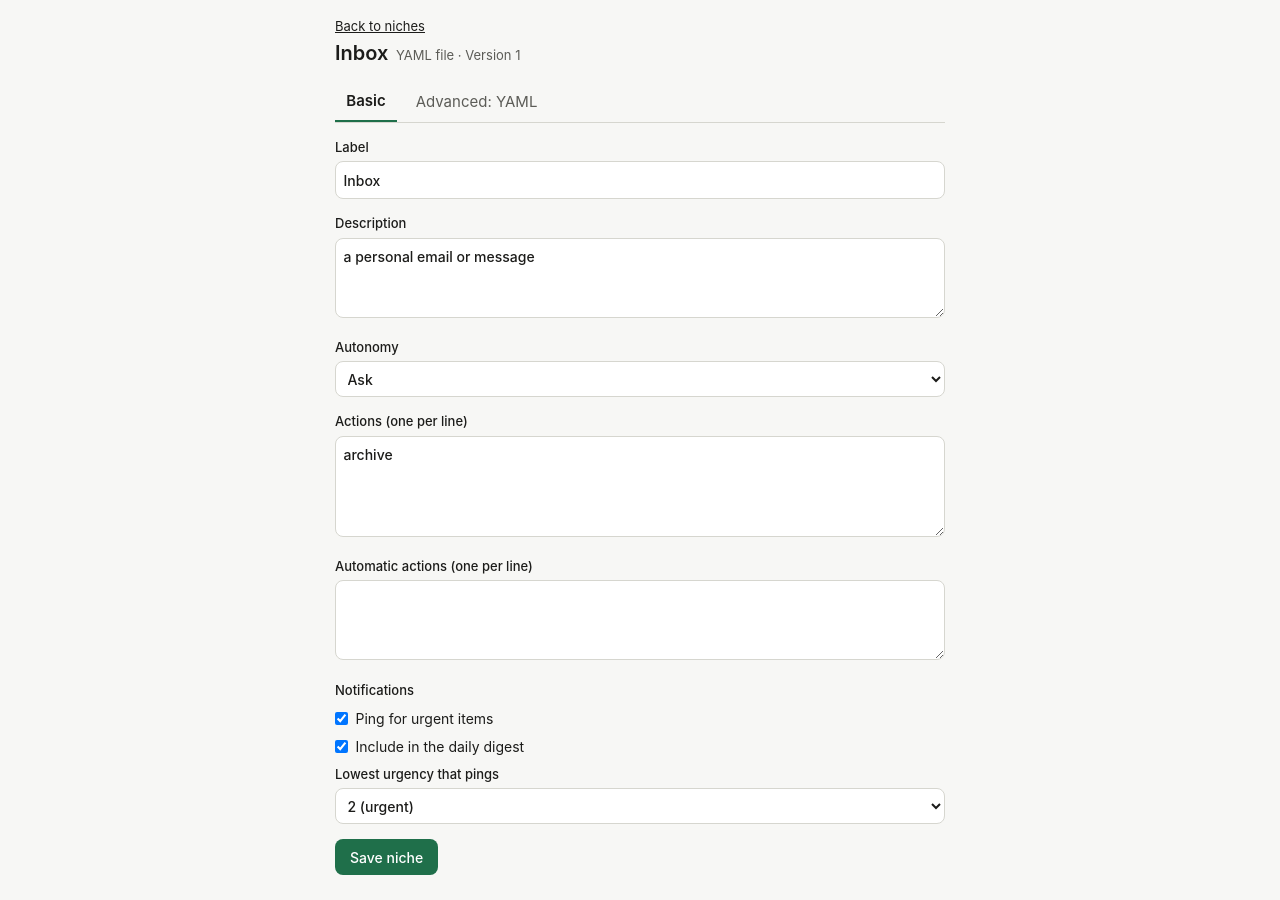
Test case: NicheEditor › does not save when the auto confirmation is cancelled
The image size is (1280, 900).
Check: the field labelled "Label" is shown, box [335, 161, 945, 199]
Select "Auto" in the dropdown labelled "Autonomy". click: (640, 379)
box: [335, 361, 945, 397]
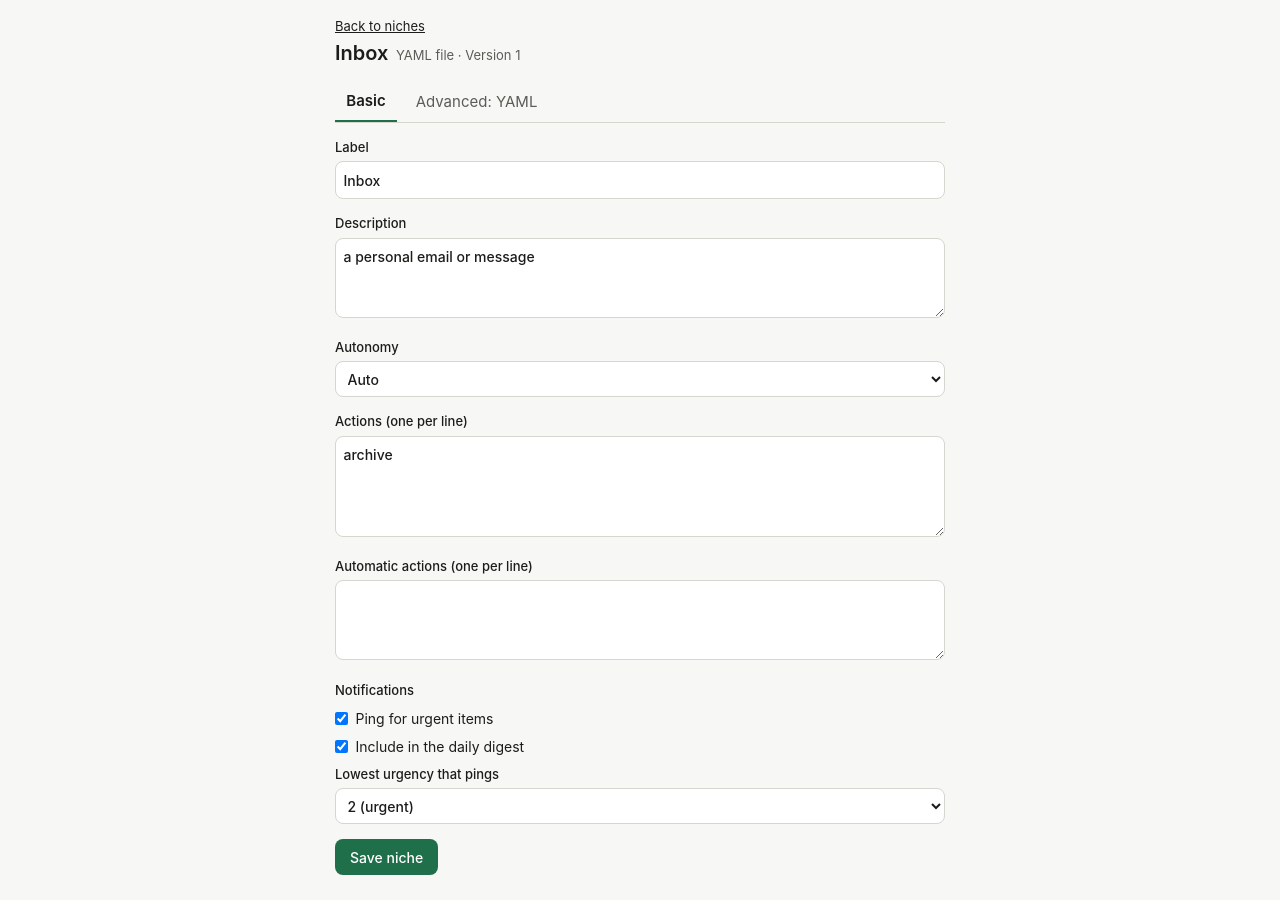
Click the button "Save niche". click: (387, 857)
box: [335, 839, 438, 875]
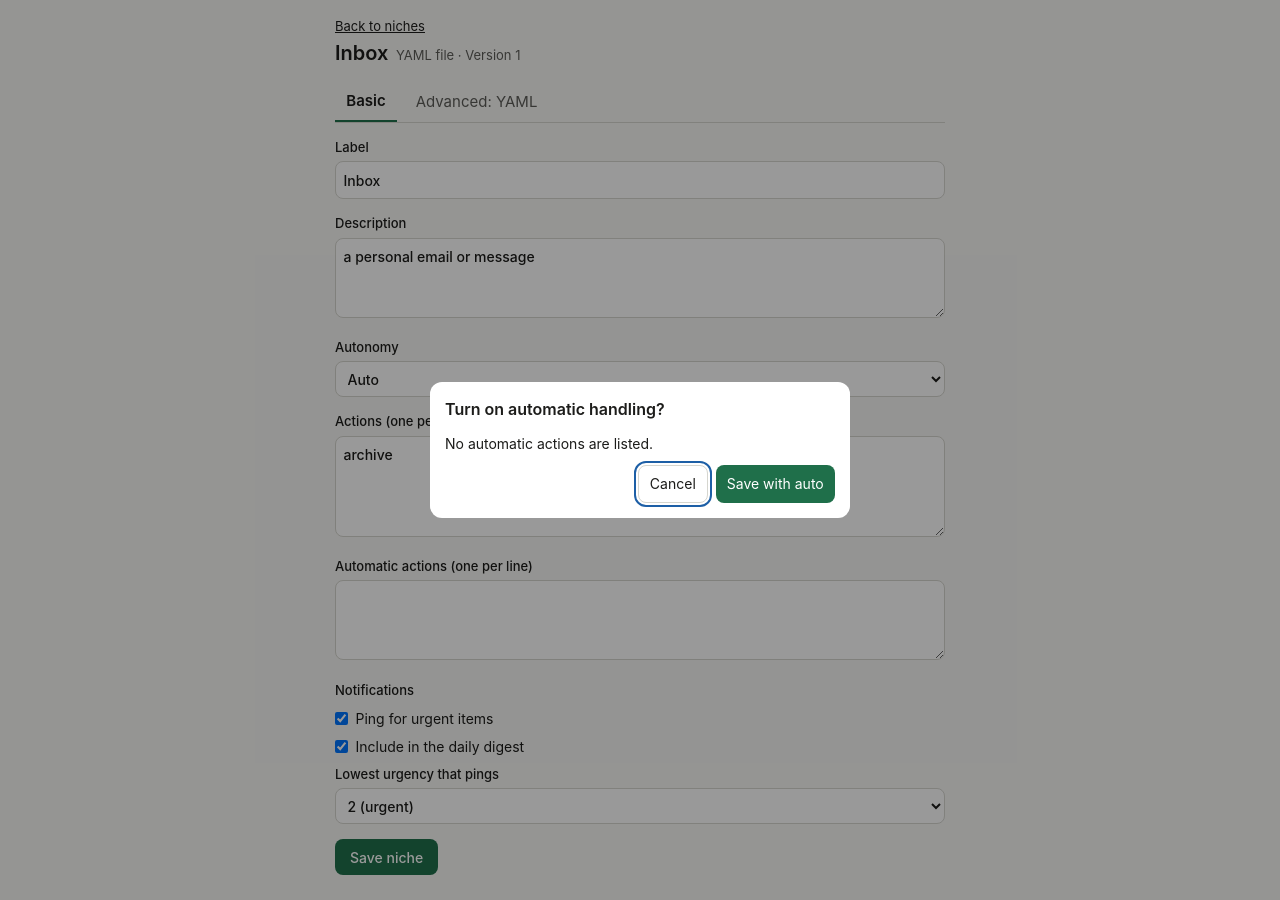
Click the button "Cancel". click: (673, 484)
box: [638, 465, 708, 503]
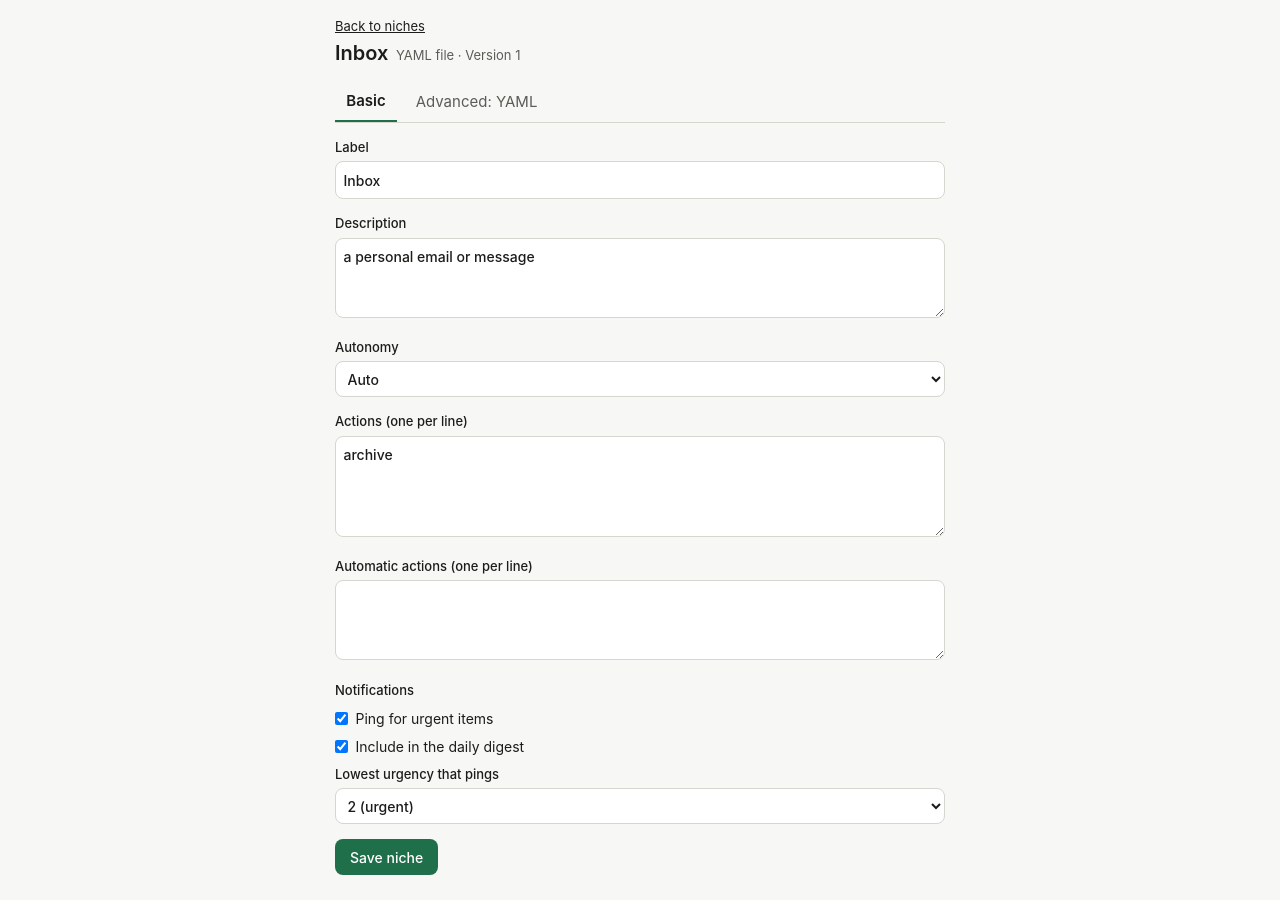
Check: the dialog is gone
